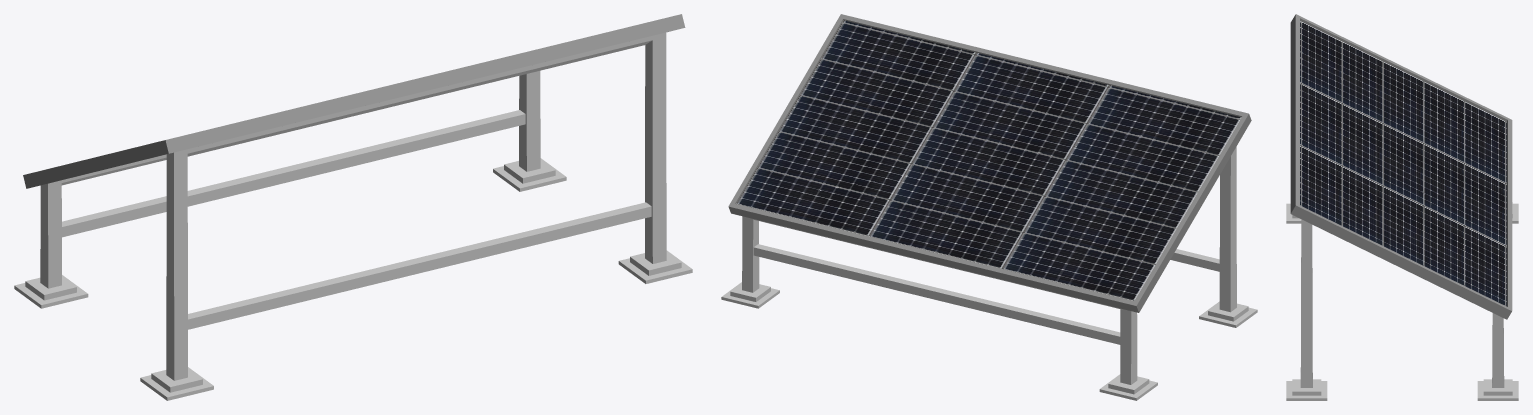
File: SolarCell.fbx
The picture shows the model from 3 angles, left to right: view 1: azimuth 30°, elevation 25°; view 2: azimuth 150°, elevation 25°; view 3: azimuth 270°, elevation 25°; orthographic projection. The views are drawn at different scales.
Parts seen in each view (by area): view 1: Plane; view 2: Plane; view 3: Plane.
Boxes of the visible parts, x1,y1,x2,y2 form: Plane: [14, 14, 692, 400]; Plane: [721, 14, 1257, 400]; Plane: [1286, 14, 1518, 400].
Size of the model in its own units: 214 by 108 by 99.18.
3 materials, 1 textured.
